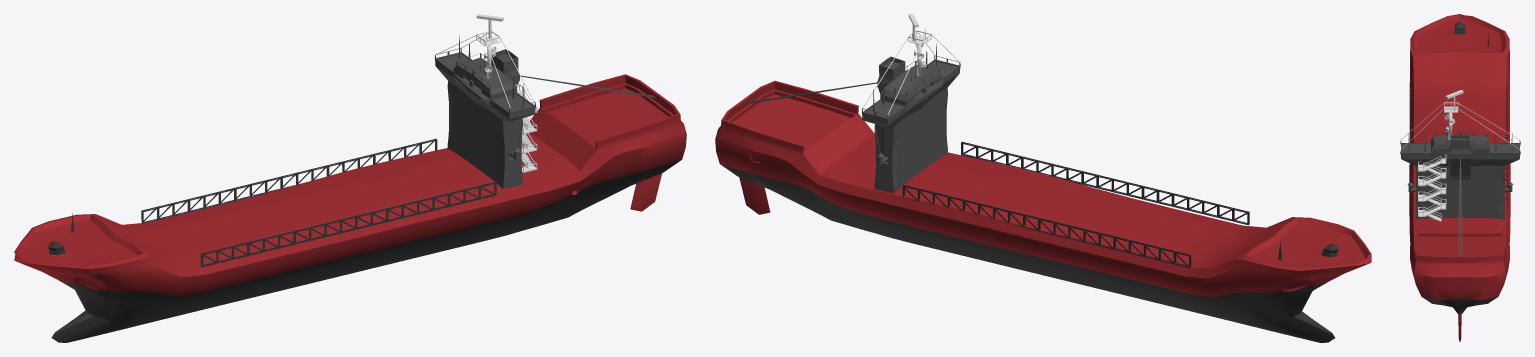
Rendered from gemi.fbx.
3 renders of one model, left to right at view 1: azimuth 30°, elevation 25°; view 2: azimuth 150°, elevation 25°; view 3: azimuth 270°, elevation 25°, orthographic. The views are drawn at different scales.
Visible parts, largest first — view 1: gemi, gemiUst; view 2: gemi, gemiUst; view 3: gemi, gemiUst.
Boxes of the visible parts, bbox=[...] form: gemi: bbox=[14, 74, 686, 342]; gemiUst: bbox=[434, 14, 656, 188]; gemi: bbox=[715, 80, 1371, 342]; gemiUst: bbox=[744, 14, 960, 193]; gemi: bbox=[1409, 14, 1510, 341]; gemiUst: bbox=[1400, 90, 1520, 256].
Bounding box in the file's own units: 2038 × 703 × 406.
